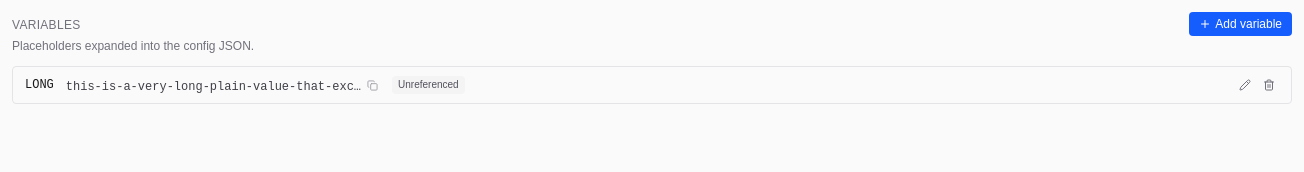
Scenario: TemplateVarsManager (buffered mode) › plain-row copy button writes the full value to the clipboard
Click the button named "Copy value": (373, 85) [365,78,380,92]
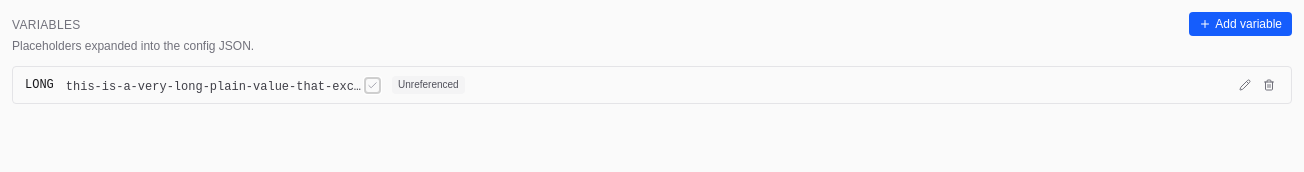
Now the button named "Copied" is shown, box [365,78,380,92]
